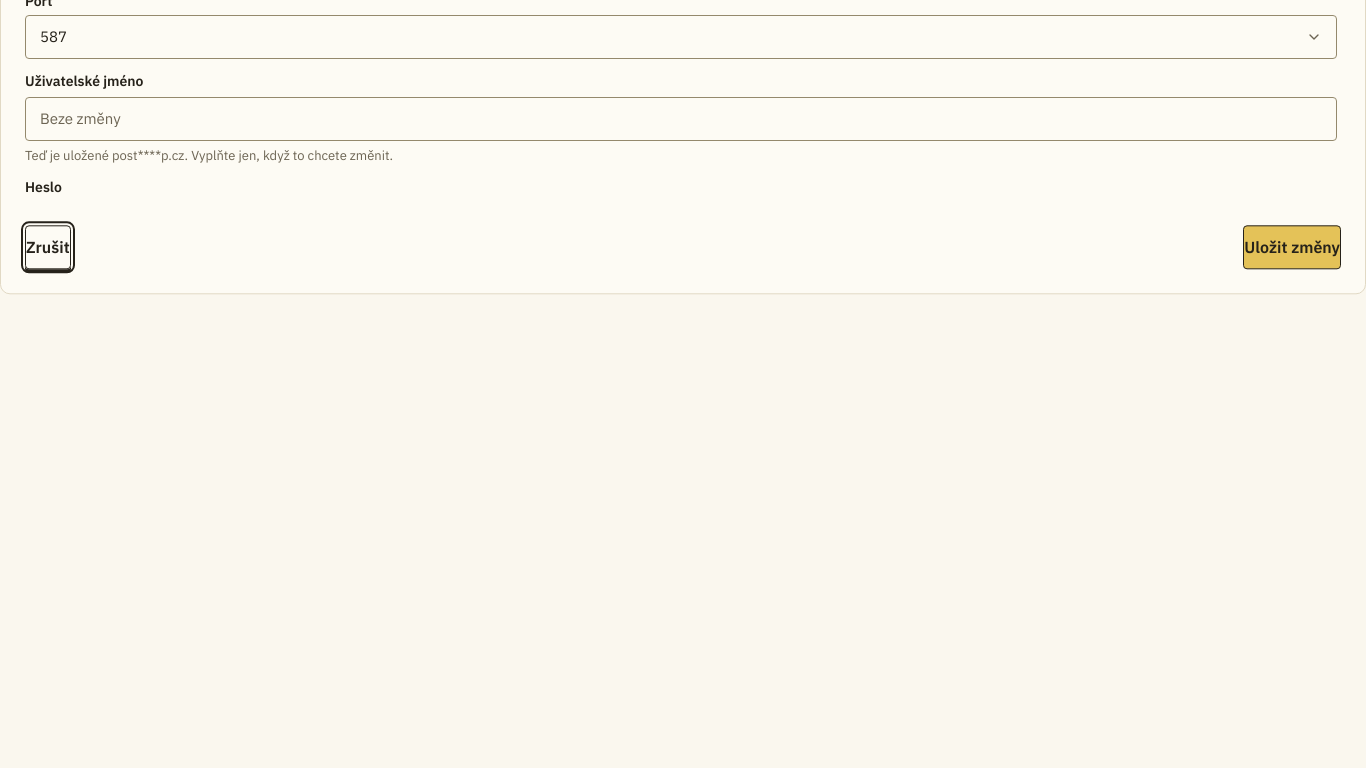
Test: dialog úpravy odesílacího účtu › beze změny se neposílá prázdný PATCH, řekne se to na místě
This screenshot has width=1366, height=768.
Click the button with test id "edit-provider-submit" at (1292, 248), box 1243,226 -> 1341,270
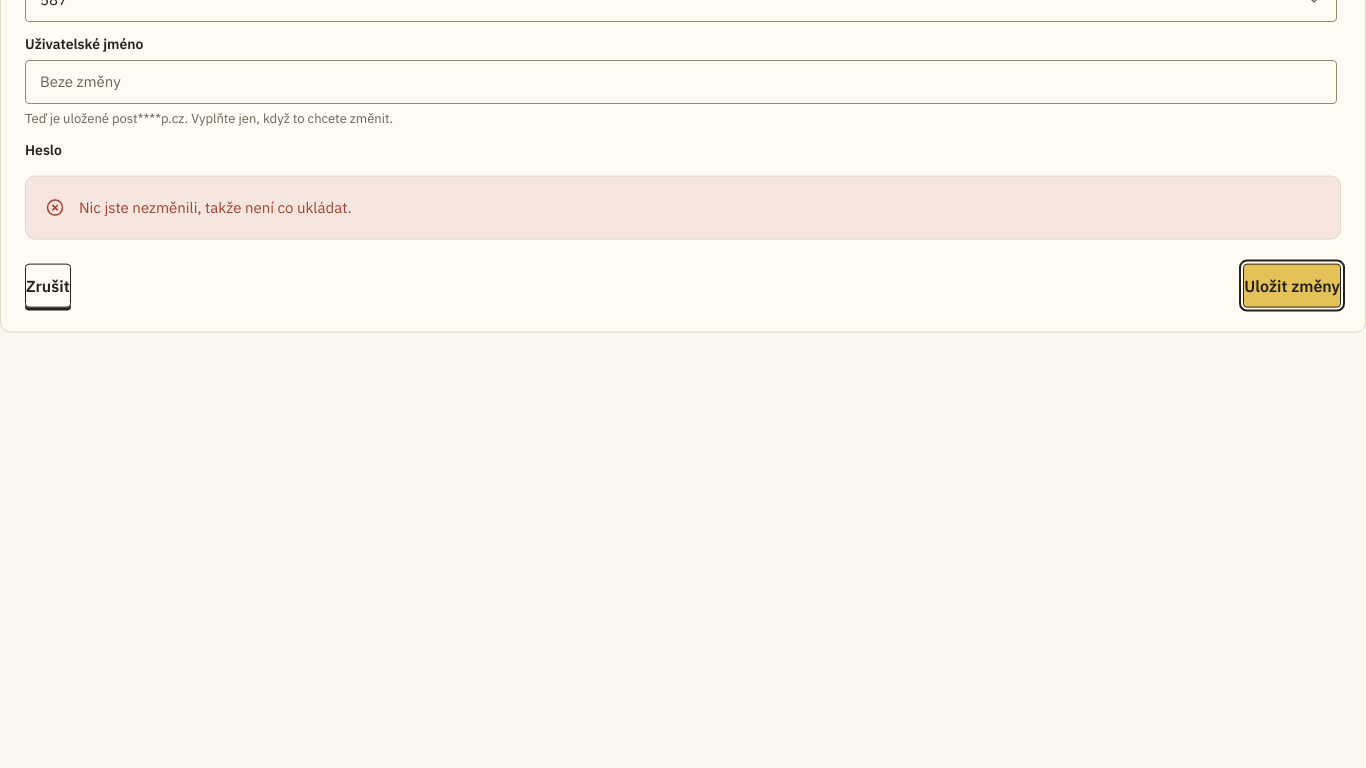
Expected: the message with test id "edit-provider-error" shows "Nic jste nezměnili", 79,198 -> 352,217
